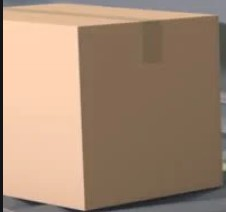stock: (3, 3, 223, 212)
